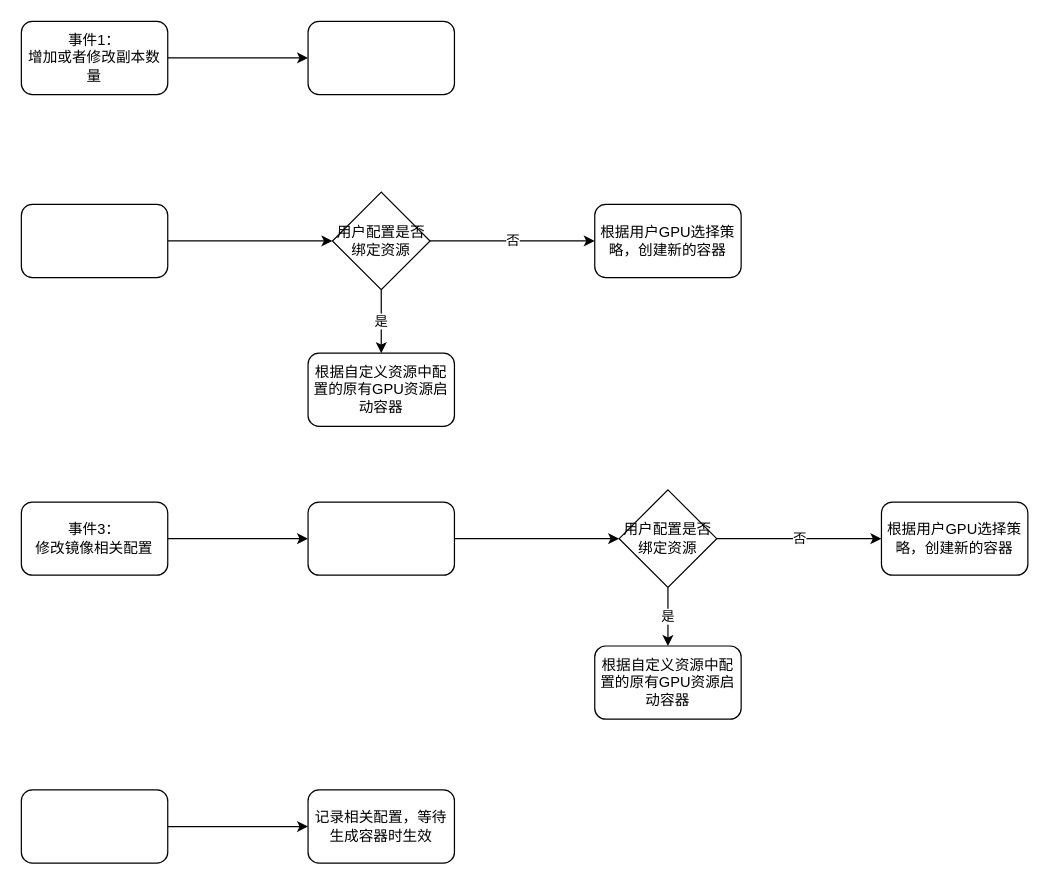
Some shapes in this 1049 by 885 pixel diagram are drawn without their labels. Each missing label, with the centre of its shape:
事件2： 容器异常终止: point 94,240
事件4： 修改容器生成策略: point 94,826
删除已有容器: point 380,538
容器根据用户定义策略，停止相关容器或者启动相关容器: point 380,57
